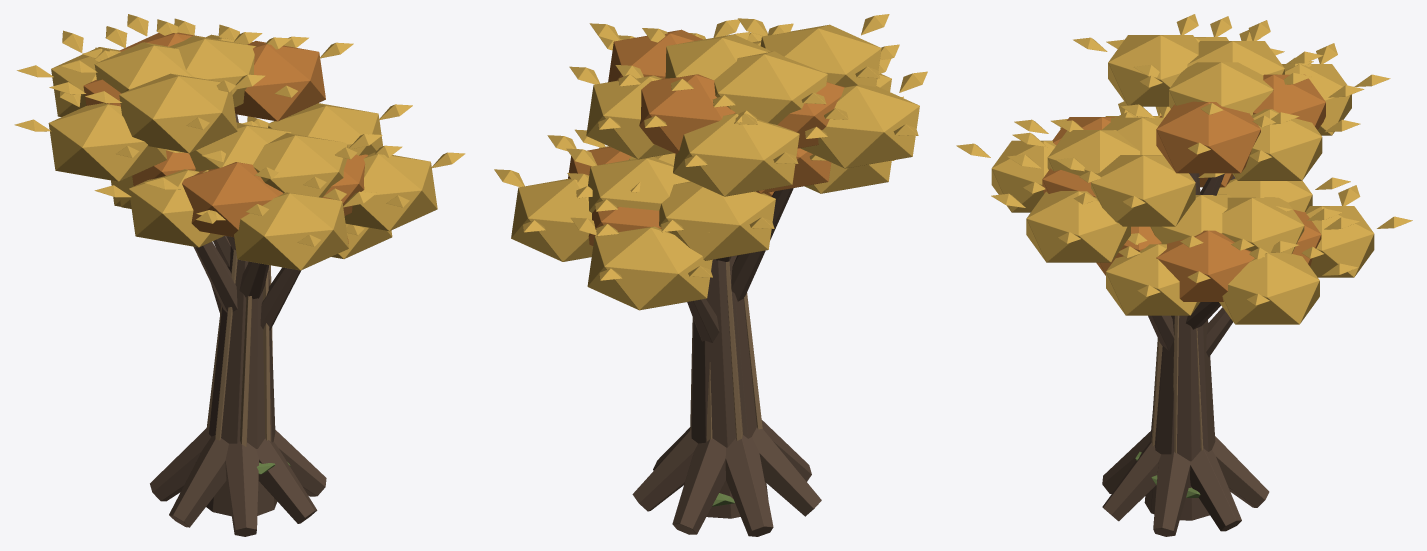
Rendered from amber_tree.glb.
3 renders of one model, left to right at view 1: azimuth 30°, elevation 25°; view 2: azimuth 150°, elevation 25°; view 3: azimuth 270°, elevation 25°, orthographic. The views are drawn at different scales.
Parts seen in each view (by area): view 1: LeafMass.010, RidgedTrunk.005, LeafMass.011, BarkRidge.005; view 2: LeafMass.010, RidgedTrunk.005, LeafMass.011, BarkRidge.005; view 3: LeafMass.010, RidgedTrunk.005, LeafMass.011, BarkRidge.005.
Boxes of the visible parts, x1,y1,x2,y2 form: LeafMass.010: (14, 14, 465, 270); RidgedTrunk.005: (150, 114, 326, 536); LeafMass.011: (83, 32, 367, 243); BarkRidge.005: (206, 249, 272, 446); LeafMass.010: (494, 14, 927, 310); RidgedTrunk.005: (632, 188, 821, 536); LeafMass.011: (568, 29, 844, 245); BarkRidge.005: (690, 261, 762, 441); LeafMass.010: (956, 14, 1412, 324); RidgedTrunk.005: (1102, 173, 1269, 536); LeafMass.011: (1042, 74, 1325, 301); BarkRidge.005: (1151, 315, 1203, 453).
Bounding box in the file's own units: 4.55 × 5.18 × 4.89.
